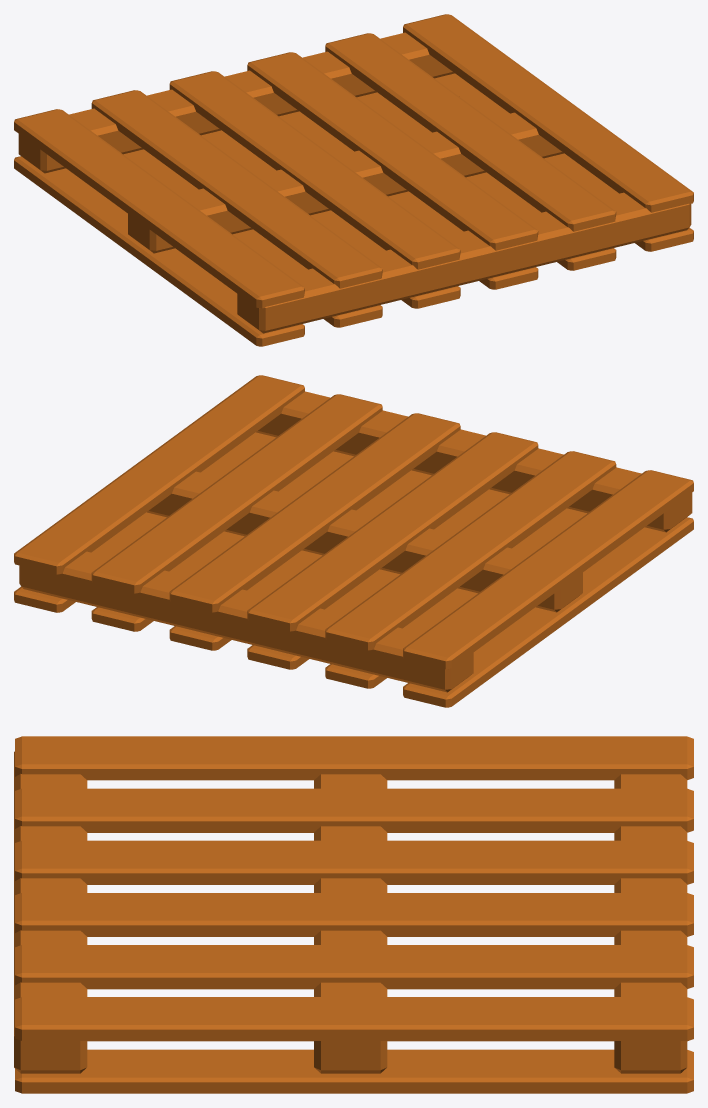
The model's file is Folklift_Pallet.fbx.
3 renders of one model, top to bottom at view 1: azimuth 30°, elevation 25°; view 2: azimuth 150°, elevation 25°; view 3: azimuth 270°, elevation 25°, orthographic. The views are drawn at different scales.
Visible parts, largest first — view 1: Cube.305; view 2: Cube.305; view 3: Cube.305.
Part boxes in pixels (bbox=[...]): Cube.305: bbox=[14, 14, 693, 346]; Cube.305: bbox=[14, 375, 693, 707]; Cube.305: bbox=[14, 736, 693, 1093].
Bounding box in the file's own units: 309 × 33.66 × 303.
